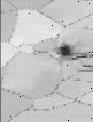good_void: (57, 43, 86, 61)
